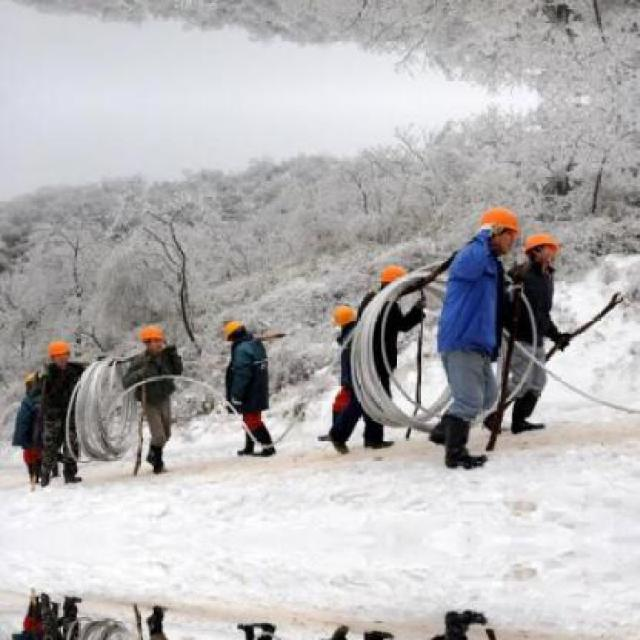helmet: (476, 202, 521, 250), (522, 228, 561, 267), (376, 260, 412, 300), (137, 324, 165, 353), (332, 301, 358, 330), (222, 319, 249, 346), (49, 333, 71, 365)
